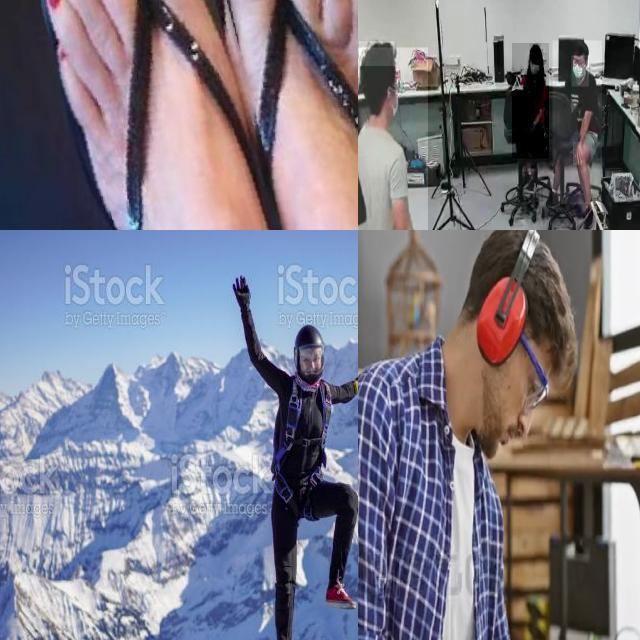Barefoots: (29, 0, 268, 230), (216, 0, 358, 230)
Ear-protection: (472, 266, 530, 375)
Harness: (273, 379, 330, 503)
face_mask: (571, 56, 589, 86), (529, 50, 543, 80)
glasses: (513, 329, 551, 417)
hand_noglove: (573, 142, 583, 166)
head_nohelmet: (359, 41, 395, 67), (573, 39, 589, 54), (529, 43, 541, 54)
person: (358, 230, 577, 640), (358, 47, 428, 230), (552, 40, 602, 205), (512, 43, 550, 159)
shoes: (546, 186, 559, 213)
